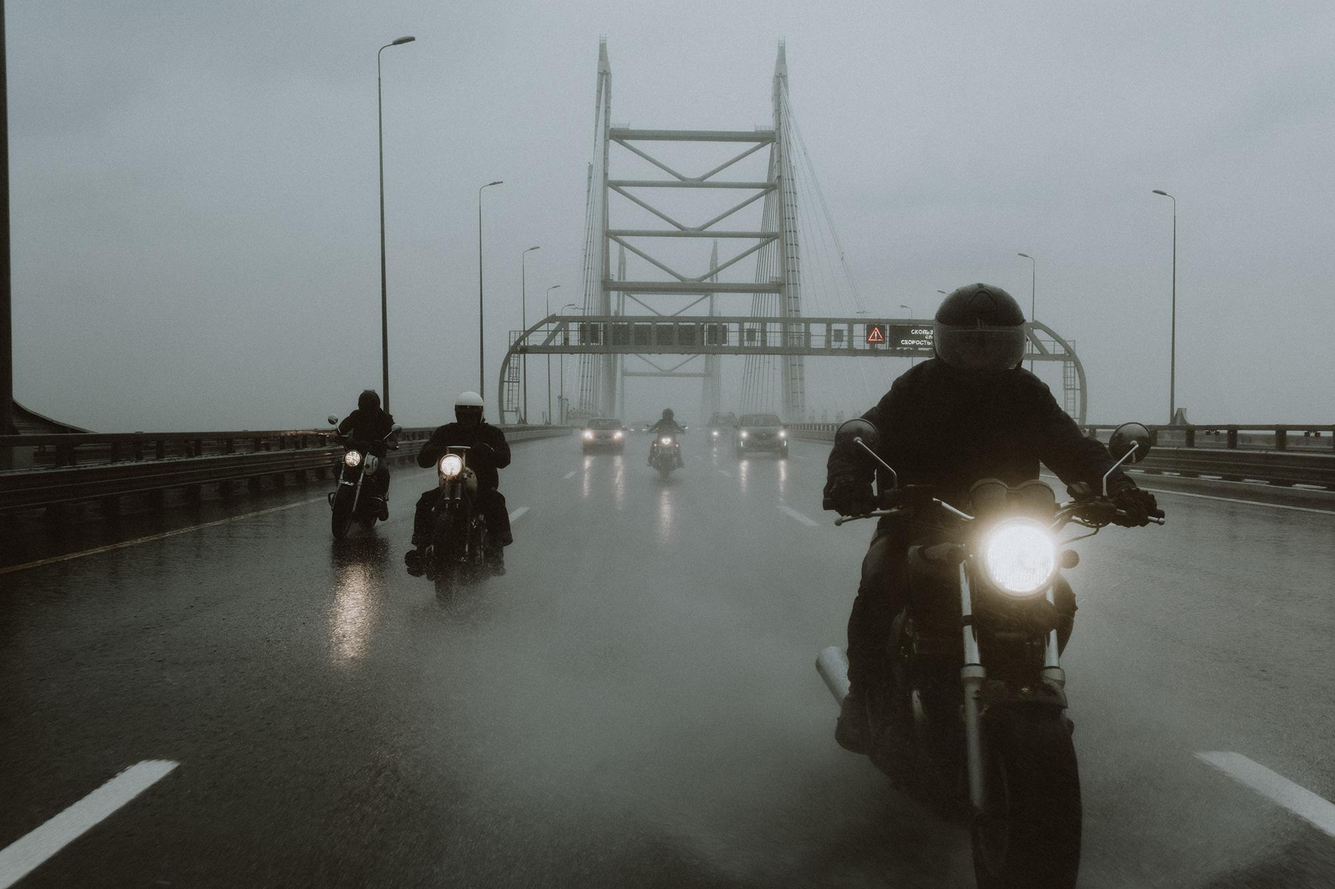helmet: (932, 281, 1029, 407), (454, 390, 487, 435)
